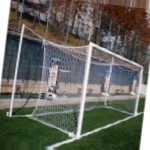goals: (37, 37, 145, 139)
